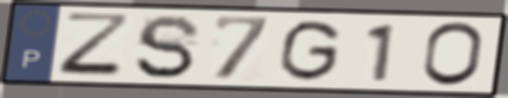1: (362, 22, 401, 83)
7: (211, 14, 274, 83)
G: (275, 18, 345, 83)
O: (419, 20, 487, 89)
S: (132, 12, 204, 81)
Z: (55, 10, 136, 79)
